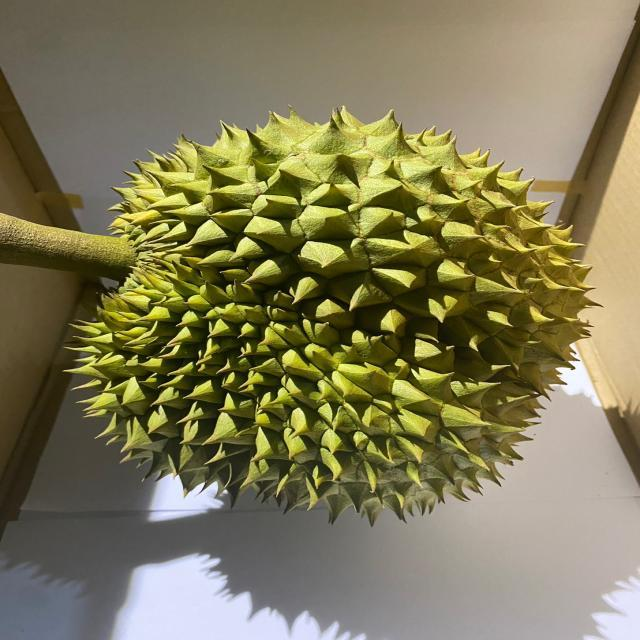immature: (58, 101, 608, 533)
